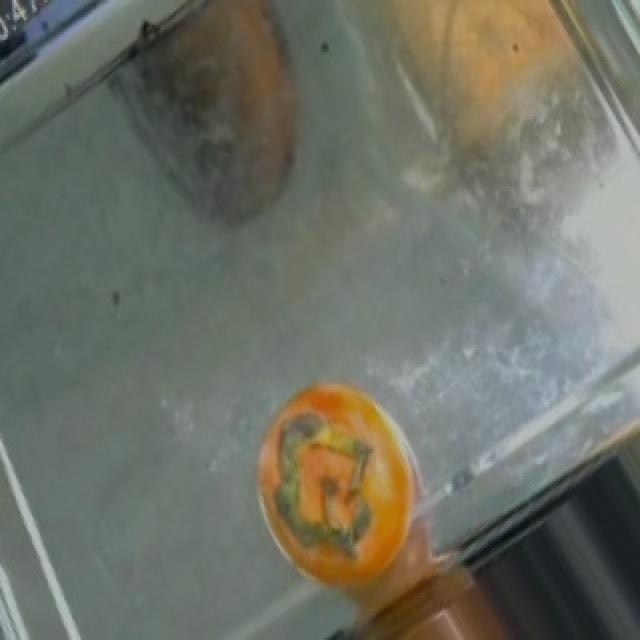Fruit: (246, 370, 436, 638), (332, 573, 540, 640)
